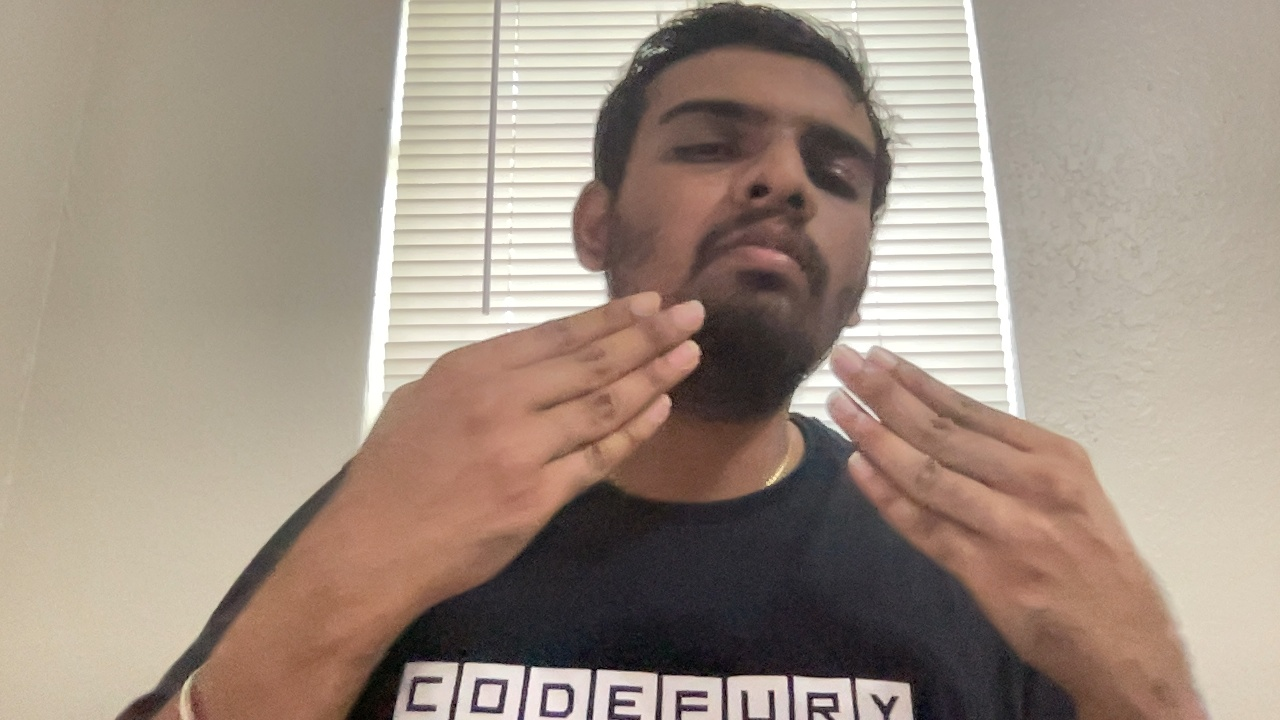thanks: (325, 283, 1203, 691)
